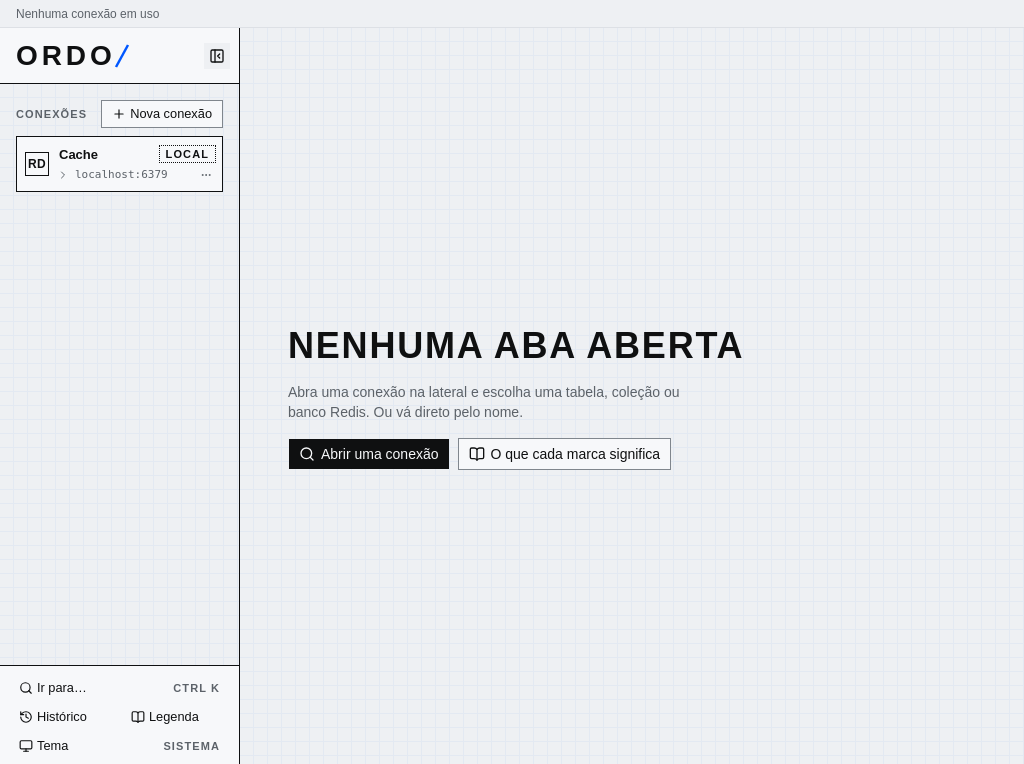
it: a flat namespace of thousands of keys renders only the rows in view
Click the list item "RD Cache Local localhost:6379" at point(120, 164), box [17,137,222,191]
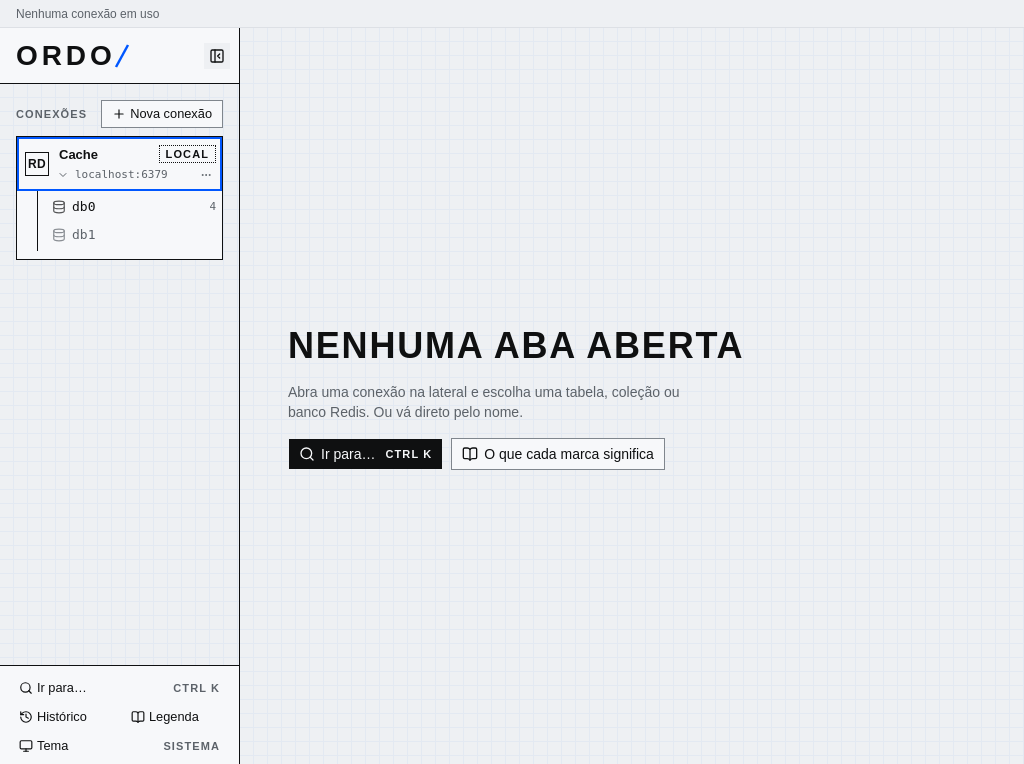
Click the list item "db0 4" at point(134, 207), box [46,193,222,221]
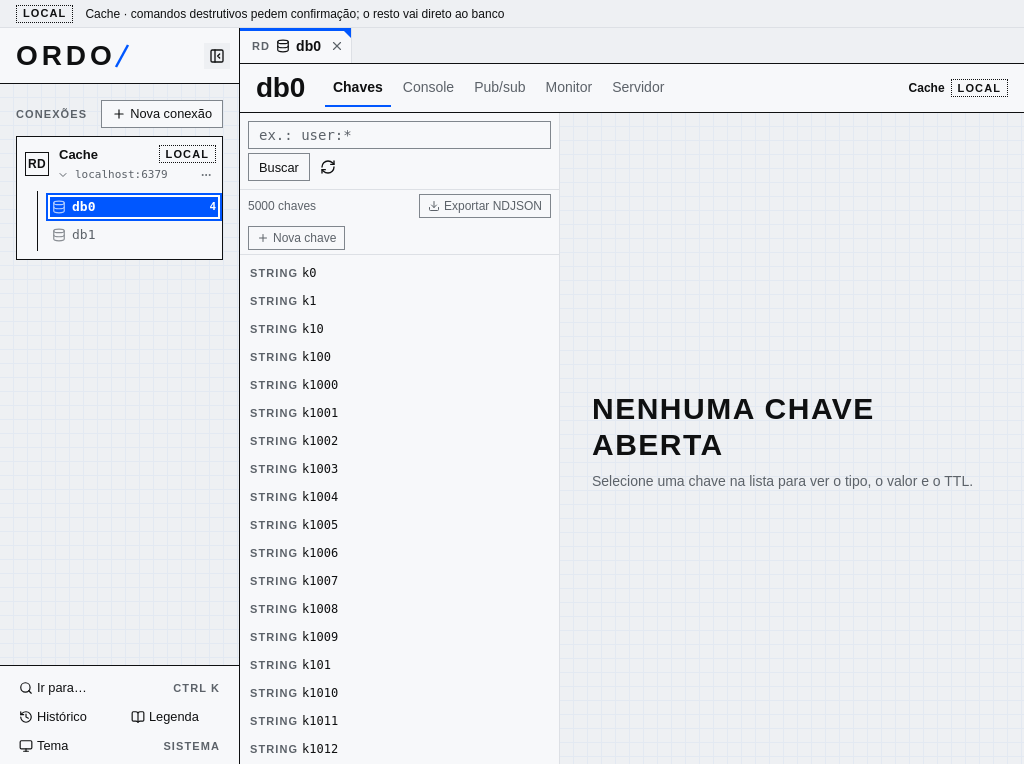
Result: the text "5000 chaves" is shown at [248,198,316,214]
